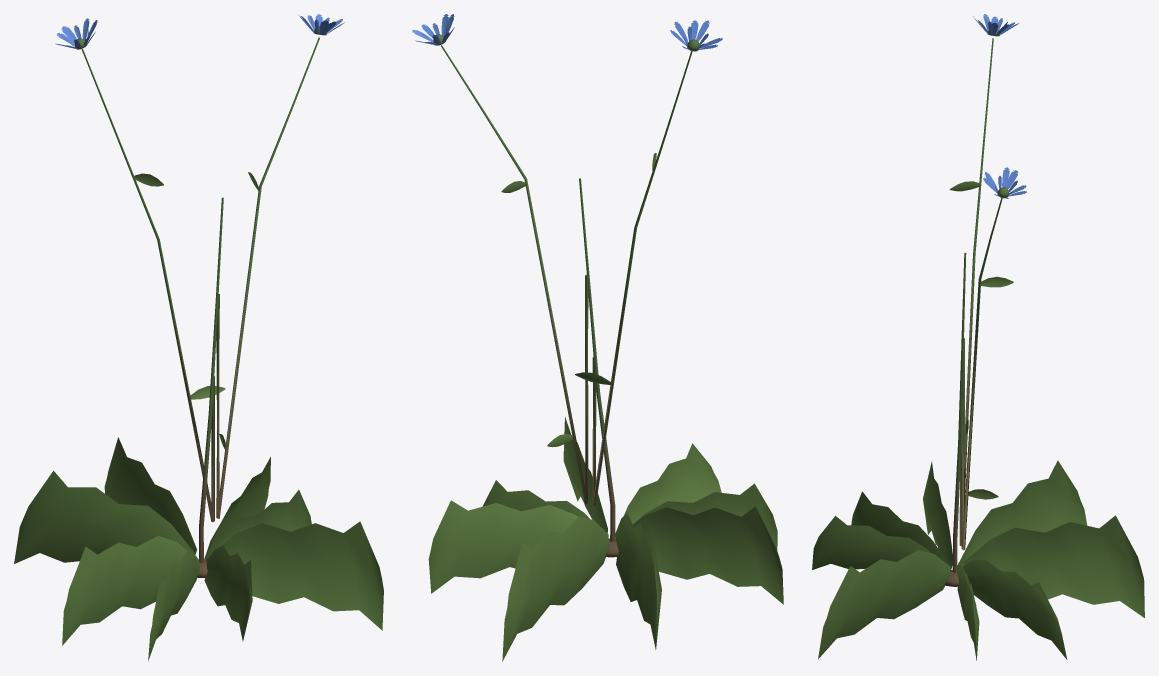
The model's file is Chicory.glb.
The picture shows the model from 3 angles, left to right: view 1: azimuth 30°, elevation 25°; view 2: azimuth 150°, elevation 25°; view 3: azimuth 270°, elevation 25°; orthographic projection. The views are drawn at different scales.
Visible parts, largest first — view 1: Plant; view 2: Plant; view 3: Plant.
Boxes of the visible parts, x1,y1,x2,y2 form: Plant: (14, 14, 383, 661); Plant: (412, 14, 783, 661); Plant: (812, 14, 1144, 660).
Bounding box in the file's own units: 0.5535 × 0.9711 × 0.5283.
